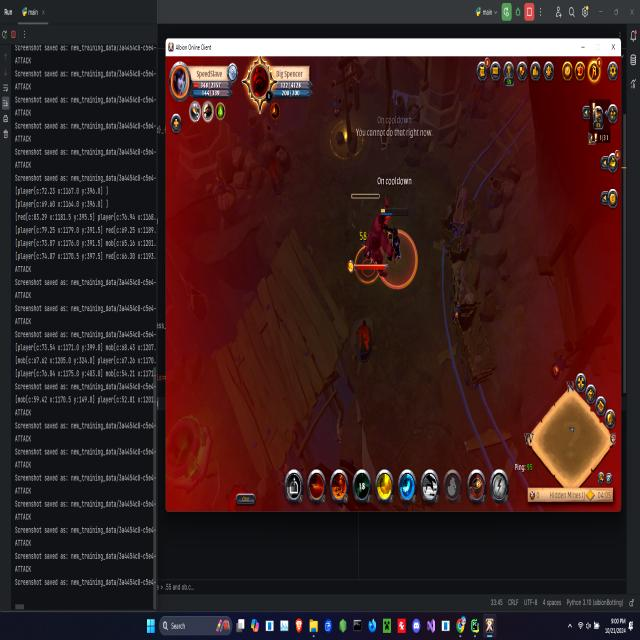ore: (348, 190, 388, 287)
red: (377, 205, 410, 264)
silver: (373, 219, 417, 288)
